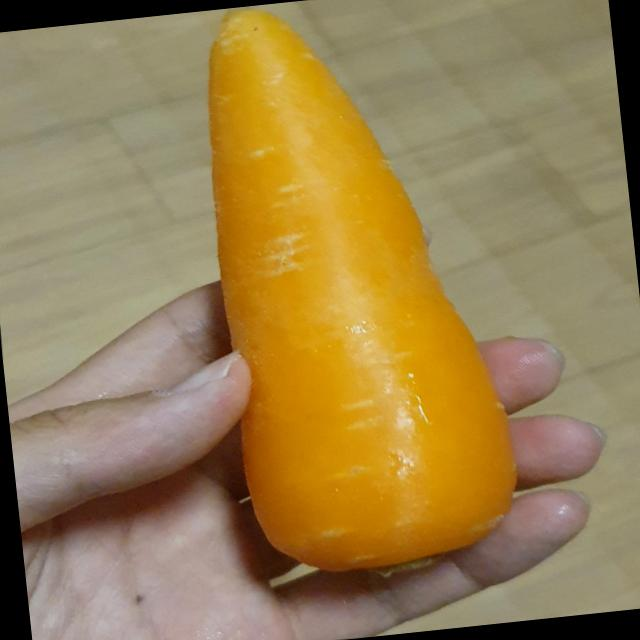carrot: (208, 10, 516, 570)
